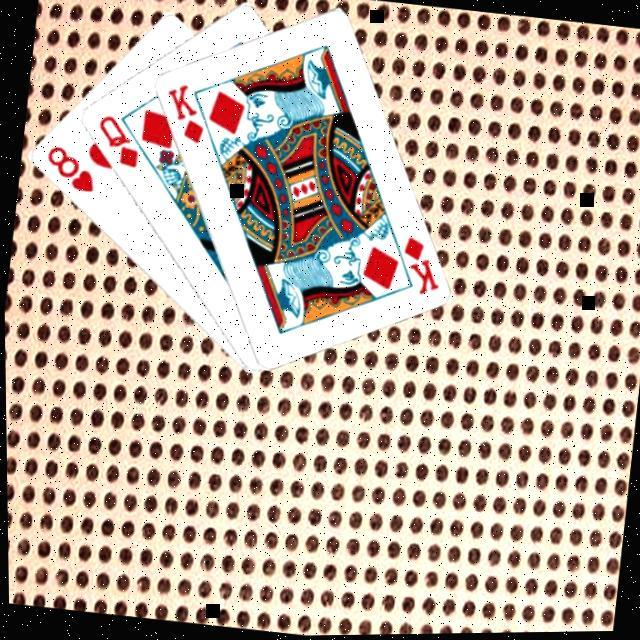8H: (36, 138, 99, 194)
KD: (156, 76, 210, 146), (392, 230, 444, 298)
QD: (88, 108, 142, 170)
